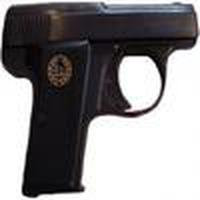gun: (1, 5, 199, 193)
